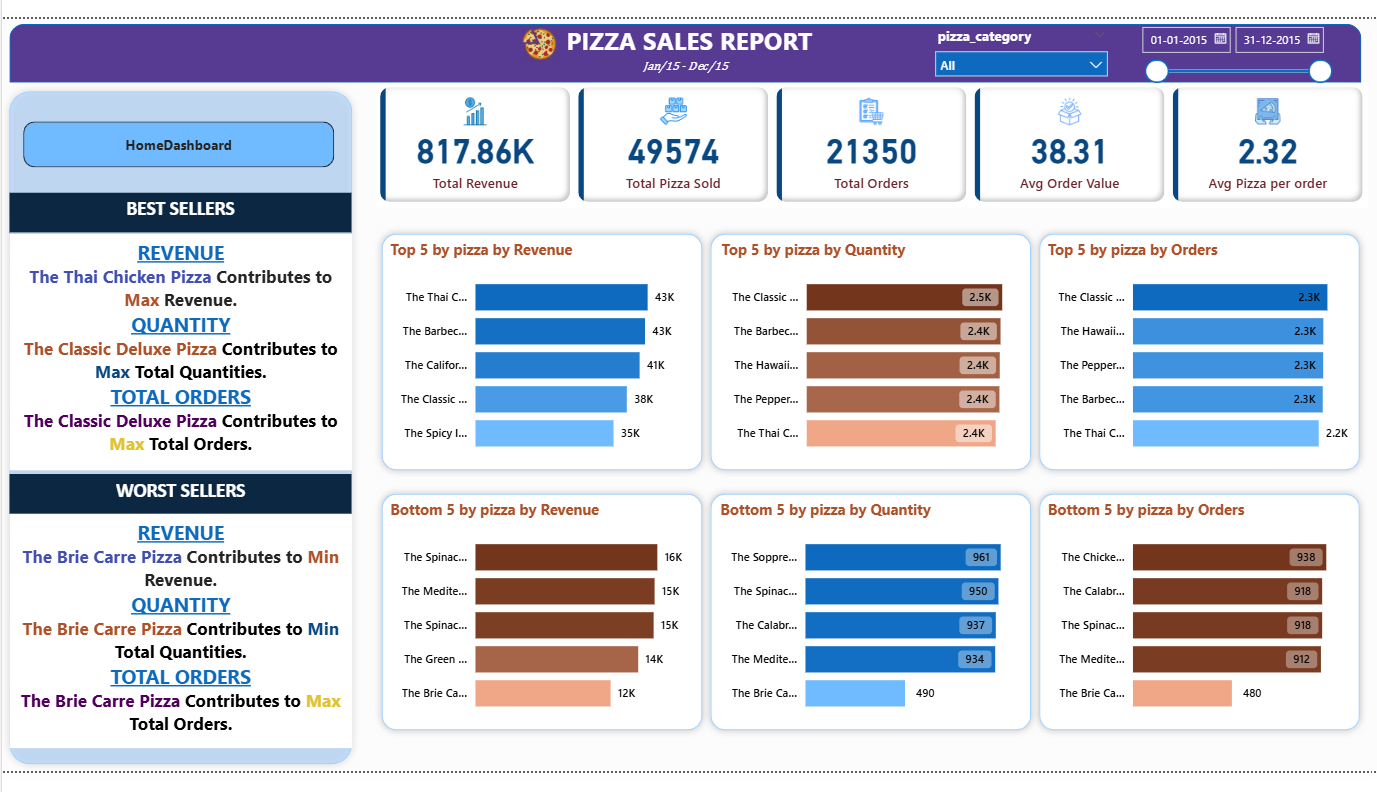

What the dashboard file says about the page in this screenshot:
{"tool":"powerbi","page":{"name":"Best/WorstSellers","canvas":[1500,820],"ordinal":1},"visuals":[{"type":"cardVisual","fields":{"Data":["pizza_sales.Total_Revenue","pizza_sales.Total_Quantity","pizza_sales.Total_Orders","pizza_sales.Avg_Order_Value","pizza_sales.Avg Pizza per order"]},"box":[407.5,69.4,1081.9,135.6],"z":0},{"type":"shape","box":[8.3,5.6,1473.6,63.9],"z":1000},{"type":"textbox","box":[610.5,0,295.7,46.3],"z":2000},{"type":"textbox","box":[693.6,36.8,115.8,43.6],"z":3000},{"type":"image","box":[561.4,0,49.1,53.1],"z":4000},{"type":"shape","box":[405.8,226.4,365.3,273.6],"z":5000},{"type":"shape","box":[0,70.9,389.7,749.5],"z":6000},{"type":"textbox","box":[8.3,190,372.5,43.3],"z":7000},{"type":"textbox","box":[8.3,234.2,373.3,257.5],"z":8000},{"type":"textbox","box":[8.6,496.2,372.9,42.9],"z":9000},{"type":"textbox","box":[8.3,540,373.3,255],"z":10000},{"type":"slicer","fields":{"Values":["pizza_sales.pizza_category"]},"box":[1006.9,4,208.3,58.3],"z":11000},{"type":"slicer","fields":{"Values":["pizza_sales.order_date"]},"box":[1230.6,0,227.8,79.2],"z":12000},{"type":"shape","box":[1122.5,226.4,365.3,273.6],"z":13000},{"type":"shape","box":[764.2,226.4,365.3,273.6],"z":14000},{"type":"shape","box":[405.8,509.7,365.3,273.6],"z":15000},{"type":"shape","box":[1122.2,509.7,365.3,273.6],"z":16000},{"type":"shape","box":[764.2,509.7,365.3,273.6],"z":17000},{"type":"barChart","title":"Top 5 by pizza by Revenue","fields":{"Category":["pizza_sales.pizza_name"],"Y":["pizza_sales.Total Revenue"]},"box":[418.1,240.3,340.3,247.2],"z":18000},{"type":"barChart","title":"Bottom 5 by pizza by Revenue","fields":{"Category":["pizza_sales.pizza_name"],"Y":["pizza_sales.Total Revenue"]},"box":[418.1,523.6,340.3,247.2],"z":19000},{"type":"barChart","title":"Top 5 by pizza by Quantity","fields":{"Category":["pizza_sales.pizza_name"],"Y":["pizza_sales.Total Pizza Sold"]},"box":[779.2,240.3,340.3,247.2],"z":20000},{"type":"barChart","title":"Bottom 5 by pizza by Quantity","fields":{"Category":["pizza_sales.pizza_name"],"Y":["pizza_sales.Total Pizza Sold"]},"box":[777.8,523.6,340.3,247.2],"z":21000},{"type":"barChart","title":"Top 5 by pizza by Orders","fields":{"Category":["pizza_sales.pizza_name"],"Y":["pizza_sales.Total Orders"]},"box":[1134.7,240.3,340.3,247.2],"z":22000},{"type":"barChart","title":"Bottom 5 by pizza by Orders","fields":{"Category":["pizza_sales.pizza_name"],"Y":["pizza_sales.Total Orders"]},"box":[1134.7,523.6,340.3,247.2],"z":23000},{"type":"pageNavigator","box":[23.2,111.6,339.1,50.7],"z":24000}]}

Visuals, with their boxes on the page's 1500x820 design canvas (x1, y1, x2, y2). These are canvas units, not pixel positions in the 1377x792 screenshot, which may show the page scaled, cropped or inside an application window:
cardVisual - pizza_sales.Total_Revenue x pizza_sales.Total_Quantity: bbox(408, 69, 1489, 205)
shape: bbox(8, 6, 1482, 70)
textbox: bbox(610, 0, 906, 46)
textbox: bbox(694, 37, 809, 80)
image: bbox(561, 0, 610, 53)
shape: bbox(406, 226, 771, 500)
shape: bbox(0, 71, 390, 820)
textbox: bbox(8, 190, 381, 233)
textbox: bbox(8, 234, 382, 492)
textbox: bbox(9, 496, 382, 539)
textbox: bbox(8, 540, 382, 795)
slicer - pizza_sales.pizza_category: bbox(1007, 4, 1215, 62)
slicer - pizza_sales.order_date: bbox(1231, 0, 1458, 79)
shape: bbox(1122, 226, 1488, 500)
shape: bbox(764, 226, 1130, 500)
shape: bbox(406, 510, 771, 783)
shape: bbox(1122, 510, 1488, 783)
shape: bbox(764, 510, 1130, 783)
"Top 5 by pizza by Revenue" barChart: bbox(418, 240, 758, 488)
"Bottom 5 by pizza by Revenue" barChart: bbox(418, 524, 758, 771)
"Top 5 by pizza by Quantity" barChart: bbox(779, 240, 1120, 488)
"Bottom 5 by pizza by Quantity" barChart: bbox(778, 524, 1118, 771)
"Top 5 by pizza by Orders" barChart: bbox(1135, 240, 1475, 488)
"Bottom 5 by pizza by Orders" barChart: bbox(1135, 524, 1475, 771)
pageNavigator: bbox(23, 112, 362, 162)
